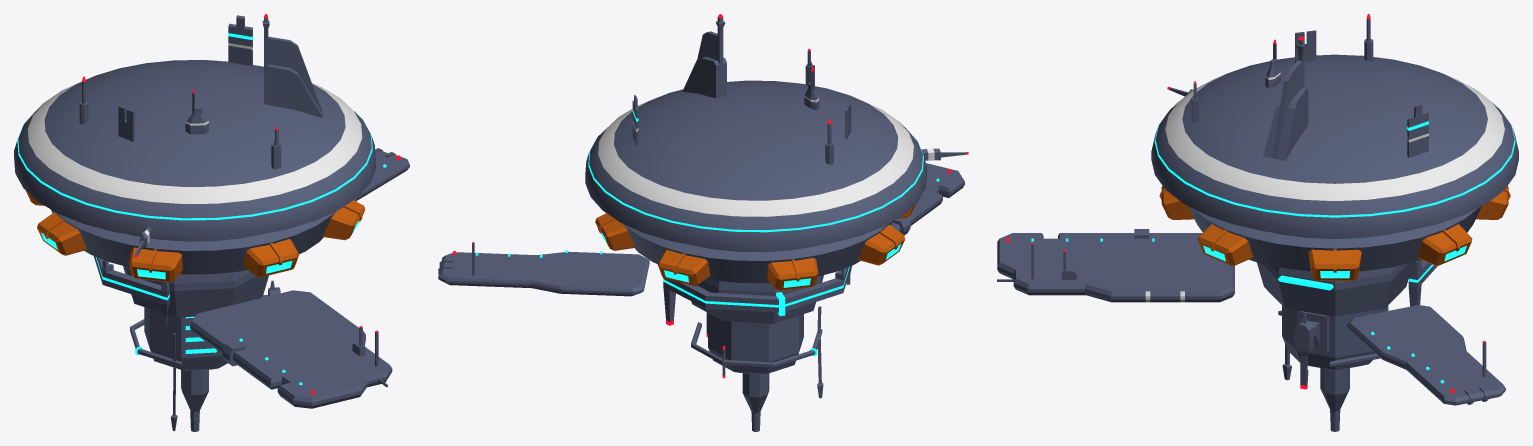
File: 3DEC_07.fbx
3 renders of one model, left to right at view 1: azimuth 30°, elevation 25°; view 2: azimuth 150°, elevation 25°; view 3: azimuth 270°, elevation 25°, orthographic. The views are drawn at different scales.
Visible parts, largest first — view 1: Sphere; view 2: Sphere; view 3: Sphere.
Part boxes in pixels (x1,y1,x2,y2): Sphere: [14, 14, 409, 431]; Sphere: [438, 14, 968, 431]; Sphere: [997, 14, 1518, 431].
Size of the model in its own units: 582 by 537 by 604.
